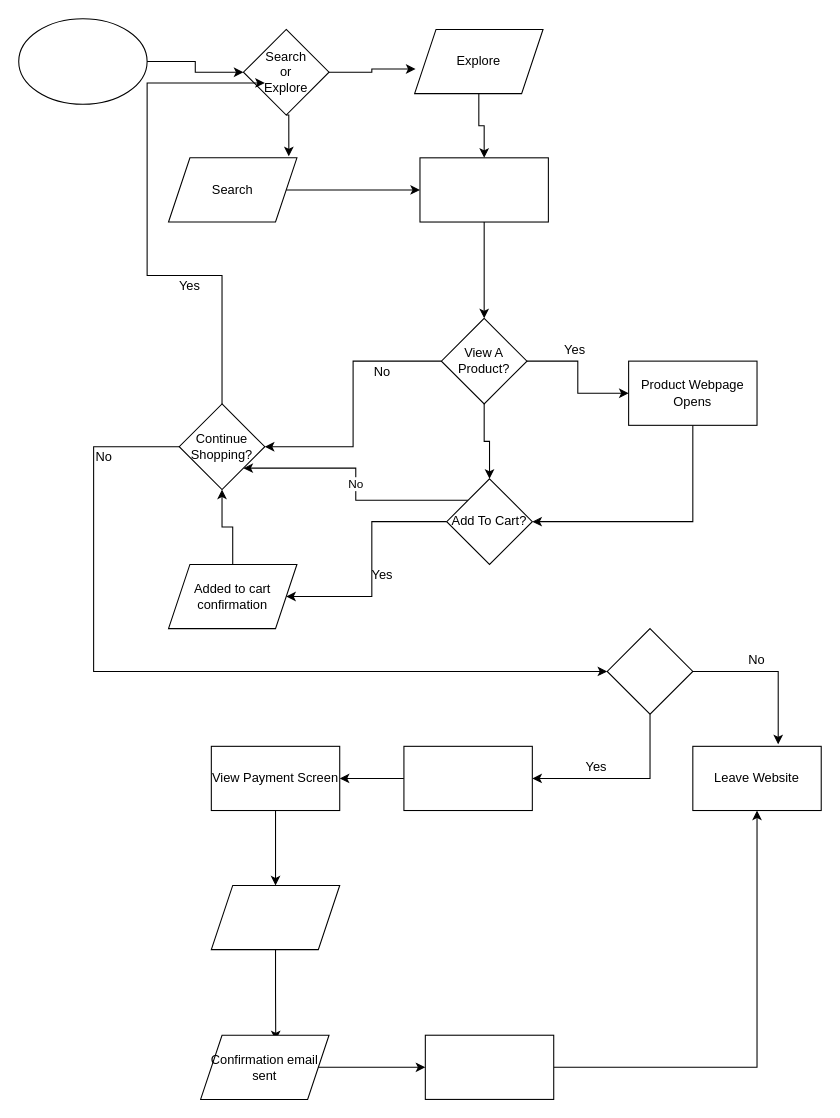
Image size: 840x1118. Some labels were removed from this diagram. Each missing label, with the centre of its shape:
Checkout?: the point at 649,671
Enter Website: the point at 82,61
Input Payment Info: the point at 275,917
Look over products: the point at 483,189
Order Confirmation: the point at 489,1066
View Cart Screen: the point at 467,778
